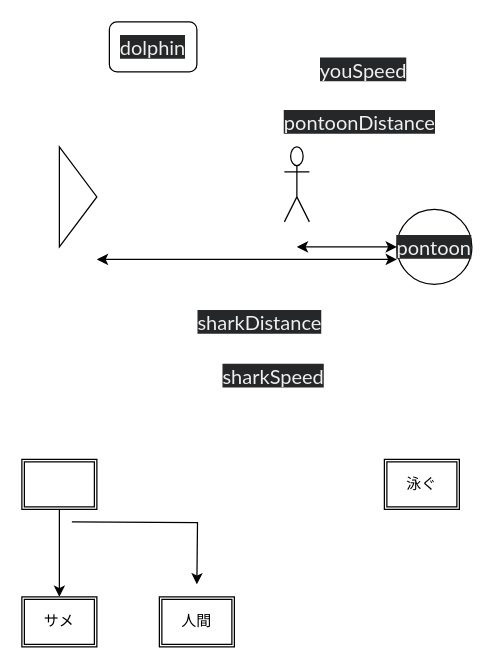
The diagram is 494 pixels wide and 669 high, and some of its shapes have lost their labels. The box of each missing label's shape, as (x1, y1, x2, y2) in pixels:
Actor: (283, 146, 309, 222)
動物: (21, 458, 97, 509)
